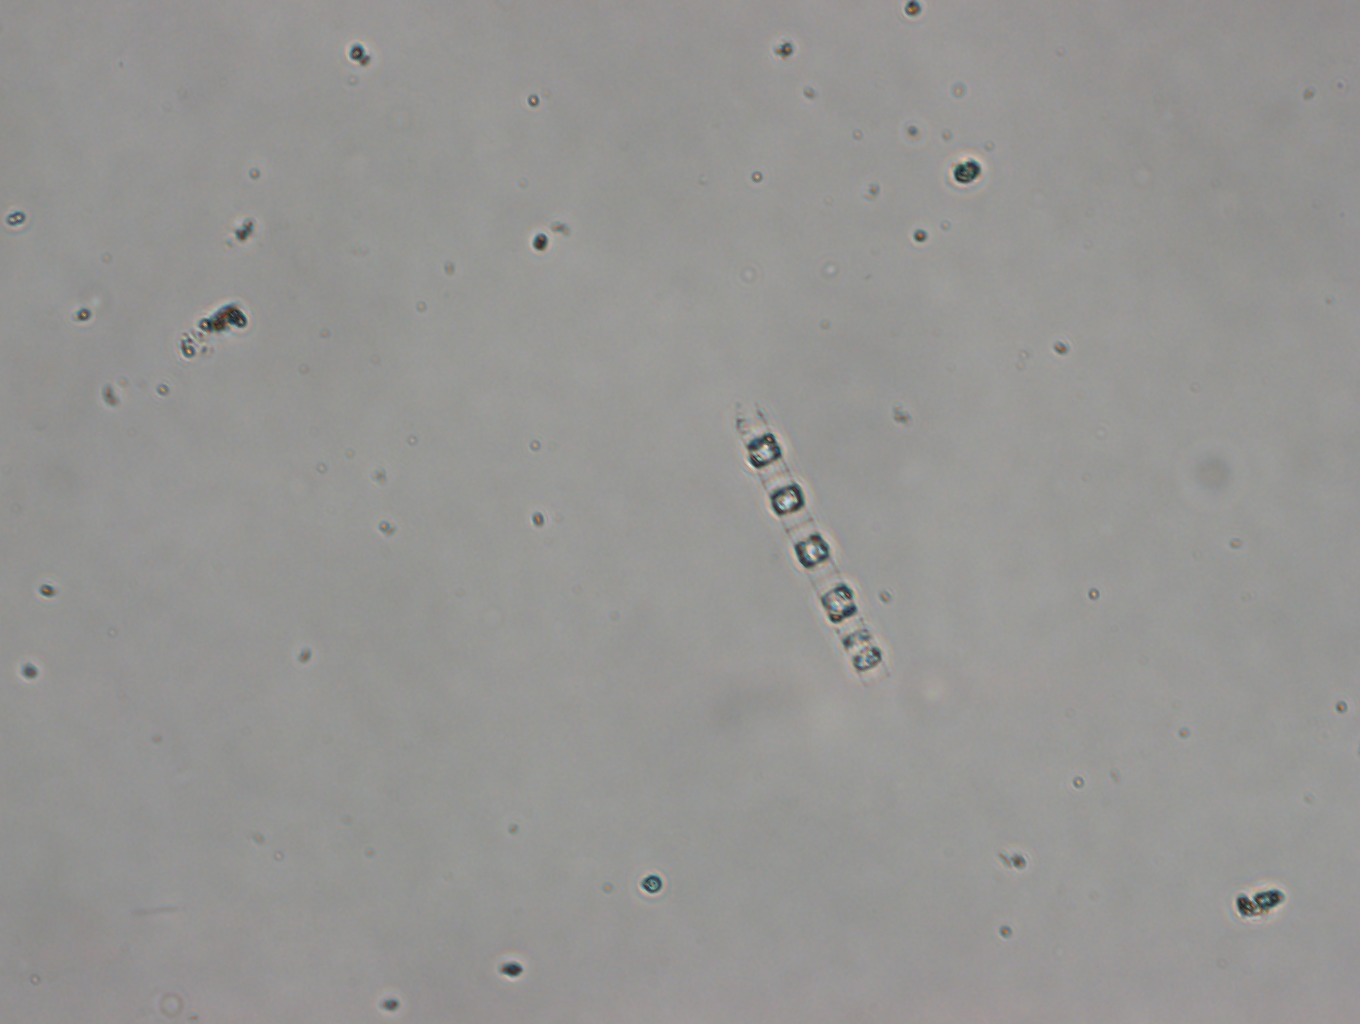skeletonema: (730, 400, 890, 695)
